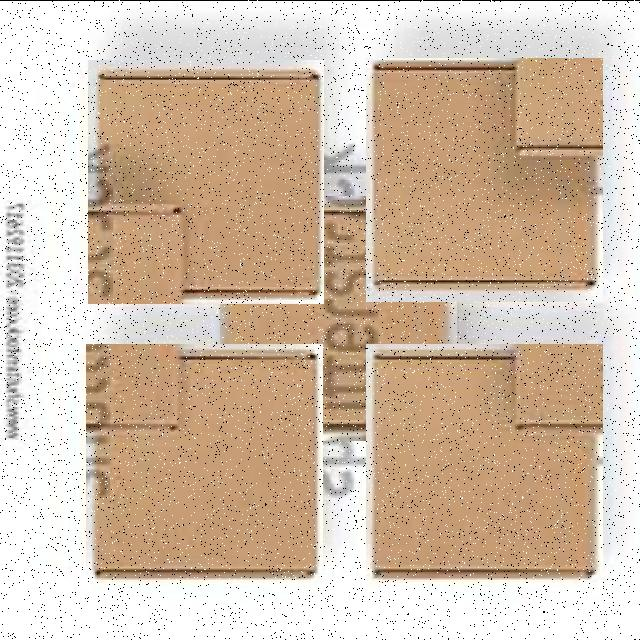normal: (220, 195, 457, 440), (366, 343, 603, 588), (86, 343, 323, 588), (366, 57, 603, 301), (88, 59, 324, 303)
